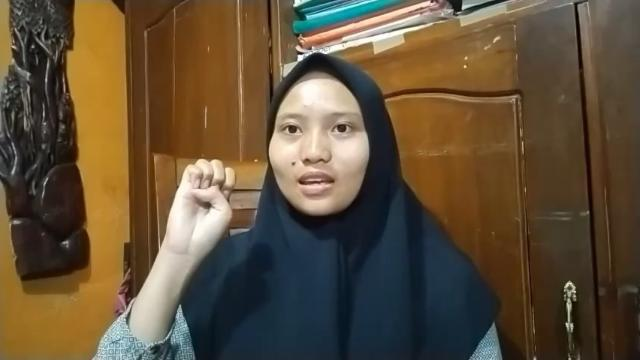E: (158, 160, 238, 262)
